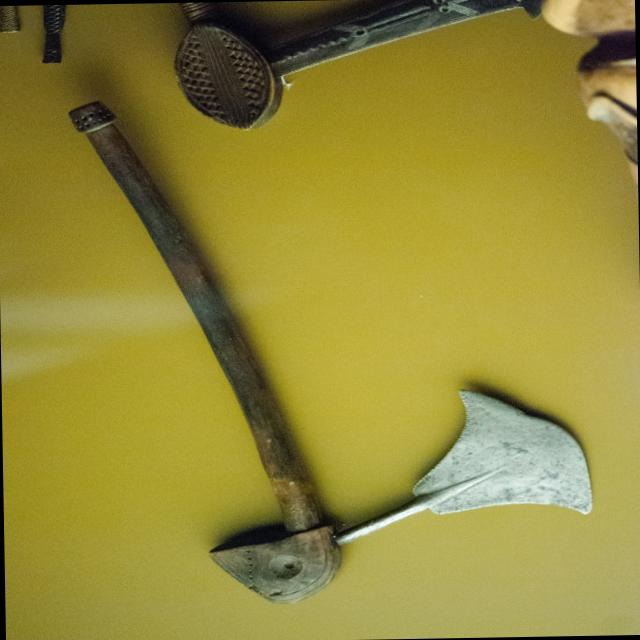Gun: (47, 86, 610, 623), (138, 0, 554, 140)
